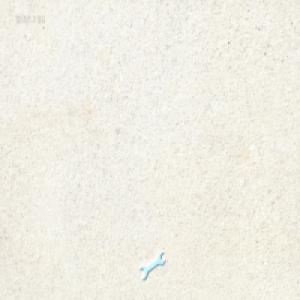Wrench: (138, 250, 162, 278)
